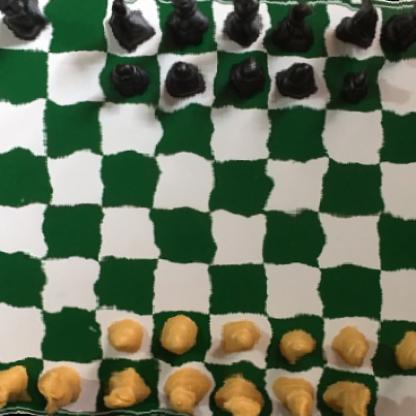black-bishop: (267, 0, 321, 53), (111, 0, 155, 49)
black-king: (221, 0, 266, 47)
black-knight: (334, 0, 382, 49)
black-pawn: (163, 57, 209, 104), (274, 59, 318, 104), (334, 63, 376, 106), (226, 59, 264, 105), (107, 59, 150, 99)
black-queen: (163, 0, 216, 53)
black-rook: (0, 0, 53, 45), (383, 1, 416, 59)
white-bishop: (104, 359, 149, 416), (274, 371, 326, 416)
white-king: (212, 369, 262, 416)
white-knight: (41, 362, 86, 416), (329, 376, 371, 416)
white-pawn: (210, 317, 262, 358), (276, 323, 318, 366), (160, 315, 201, 355), (103, 318, 146, 354), (334, 327, 369, 368), (390, 328, 416, 370)
white-queen: (159, 363, 210, 416)
white-rook: (0, 359, 35, 413)
